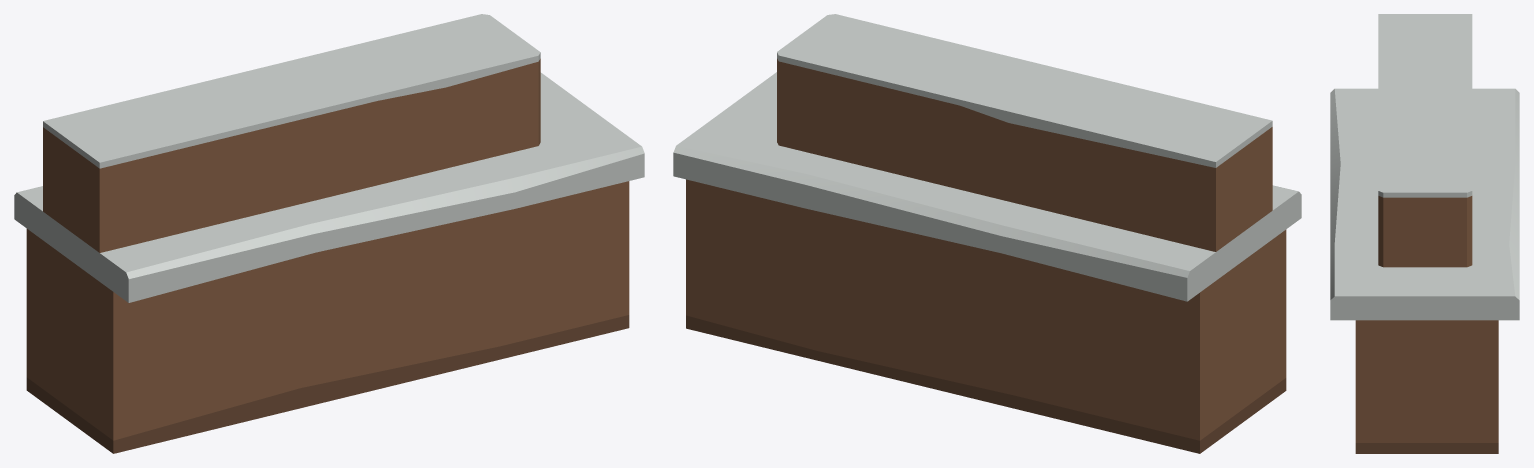
File: Prop_TellerDesk_02.glb
The picture shows the model from 3 angles, left to right: view 1: azimuth 30°, elevation 25°; view 2: azimuth 150°, elevation 25°; view 3: azimuth 270°, elevation 25°; orthographic projection. The views are drawn at different scales.
Parts seen in each view (by area): view 1: SM_Prop_TellerDesk_02; view 2: SM_Prop_TellerDesk_02; view 3: SM_Prop_TellerDesk_02.
Boxes of the visible parts, <box> form: SM_Prop_TellerDesk_02: <box>14,14,644,453</box>; SM_Prop_TellerDesk_02: <box>673,14,1301,453</box>; SM_Prop_TellerDesk_02: <box>1330,14,1519,453</box>.
Size of the model in its own units: 2.5 by 1.3 by 0.9618.
Materials: 1 (1 with a texture image).
